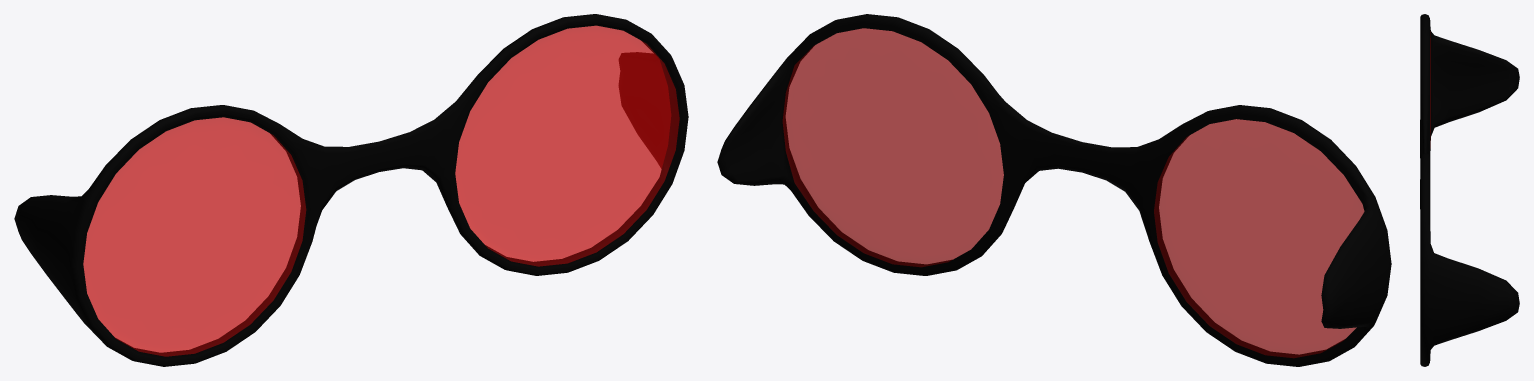
The model's file is glass.fbx.
3 views of the same model, side by side, from view 1: azimuth 30°, elevation 25°; view 2: azimuth 150°, elevation 25°; view 3: azimuth 270°, elevation 25° (orthographic). The views are drawn at different scales.
Parts seen in each view (by area): view 1: Cylinder; view 2: Cylinder; view 3: Cylinder.
Part boxes in pixels (x1,y1,x2,y2): Cylinder: [14, 14, 688, 366]; Cylinder: [717, 14, 1391, 366]; Cylinder: [1420, 14, 1519, 366].
Bounding box in the file's own units: 483 × 190 × 88.46.
